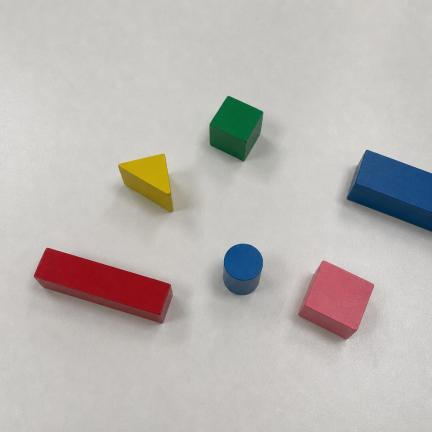BuildingBlocks: (35, 249, 172, 322), (348, 151, 431, 230), (299, 261, 373, 338), (210, 97, 263, 160), (119, 154, 174, 212), (224, 244, 262, 294)
